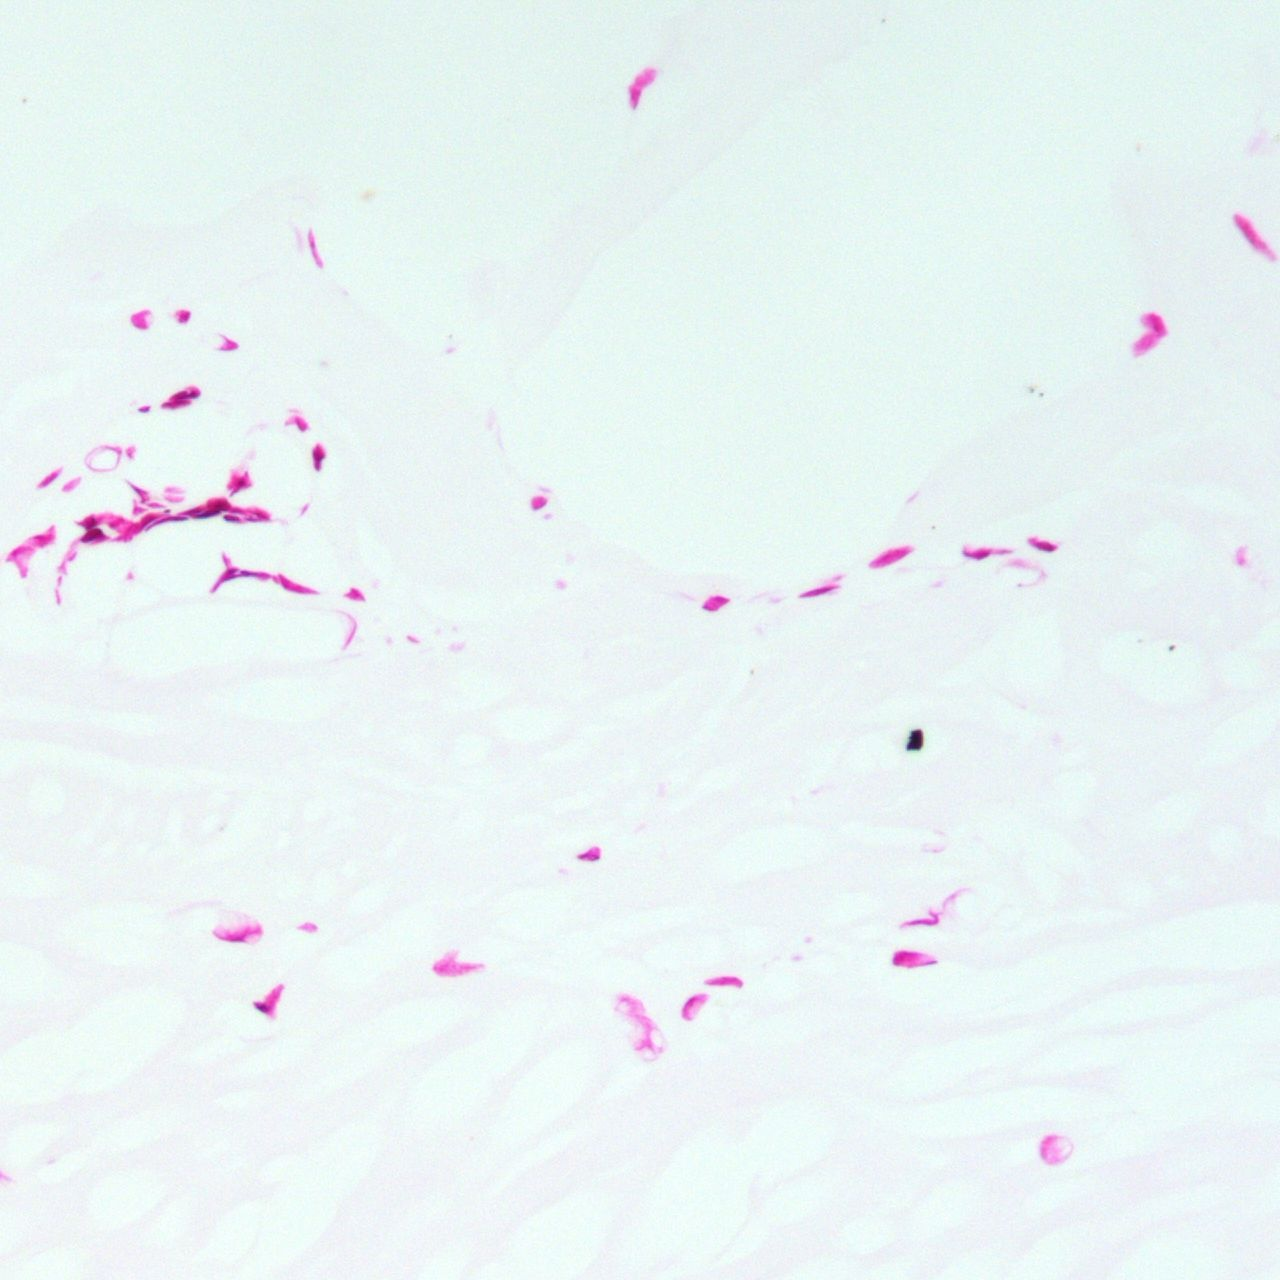dust: (905, 728, 924, 751), (1167, 644, 1175, 651)
nucleus-FG: (200, 543, 272, 594), (189, 495, 271, 523), (252, 976, 292, 1019), (158, 379, 204, 415), (679, 988, 708, 1023), (211, 922, 263, 941), (797, 581, 838, 602), (79, 524, 107, 550), (34, 467, 62, 491), (962, 547, 1012, 560), (1027, 535, 1058, 554), (894, 951, 933, 965), (704, 975, 743, 987), (701, 595, 727, 610), (312, 443, 324, 470), (578, 847, 599, 860), (177, 309, 191, 324), (532, 496, 545, 511)
